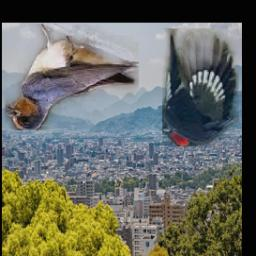Swallow: (6, 25, 140, 131)
Woodpecker: (162, 29, 239, 147)
